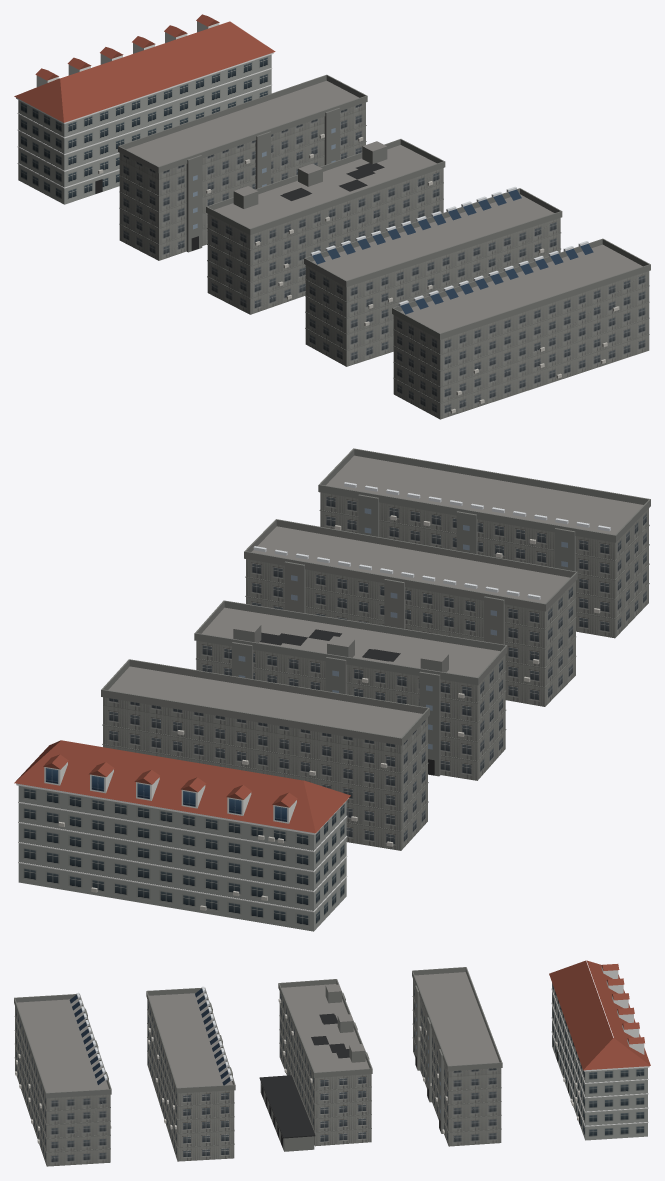
File: e3_old_residential.glb
The picture shows the model from 3 angles, top to bottom: view 1: azimuth 30°, elevation 25°; view 2: azimuth 150°, elevation 25°; view 3: azimuth 270°, elevation 25°; orthographic projection. The views are drawn at different scales.
Visible parts, largest first — view 1: old-res-4, res-p1, old-res-1, old-res-2, old-res-3; view 2: res-p1, old-res-1, old-res-3, old-res-4, old-res-2; view 3: res-p1, old-res-4, old-res-1, old-res-3, old-res-2, old-res-2a.
Part boxes in pixels (x1,y1,x2,y2): old-res-4: (392,238,650,419); res-p1: (14,14,275,204); old-res-1: (118,74,367,260); old-res-2: (206,139,445,314); old-res-3: (304,186,562,366); res-p1: (14,740,350,931); old-res-1: (101,659,429,850); old-res-3: (244,519,577,706); old-res-4: (318,448,650,638); old-res-2: (194,600,507,780); res-p1: (549,960,650,1140); old-res-4: (14,992,111,1166); old-res-1: (412,967,502,1146); old-res-3: (146,986,235,1161); old-res-2: (278,979,372,1146); old-res-2a: (259,1075,315,1151).
Bounding box in the file's own units: 58.79 × 20 × 125.
Materials: 12 (4 with a texture image).
